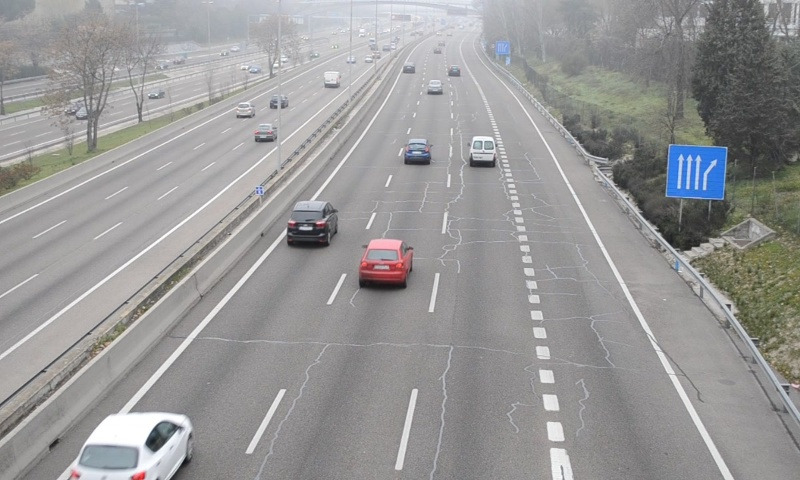car: (66, 413, 193, 480), (360, 240, 412, 286), (287, 202, 336, 247), (403, 139, 431, 165), (426, 79, 444, 96)
van: (469, 136, 497, 166)
